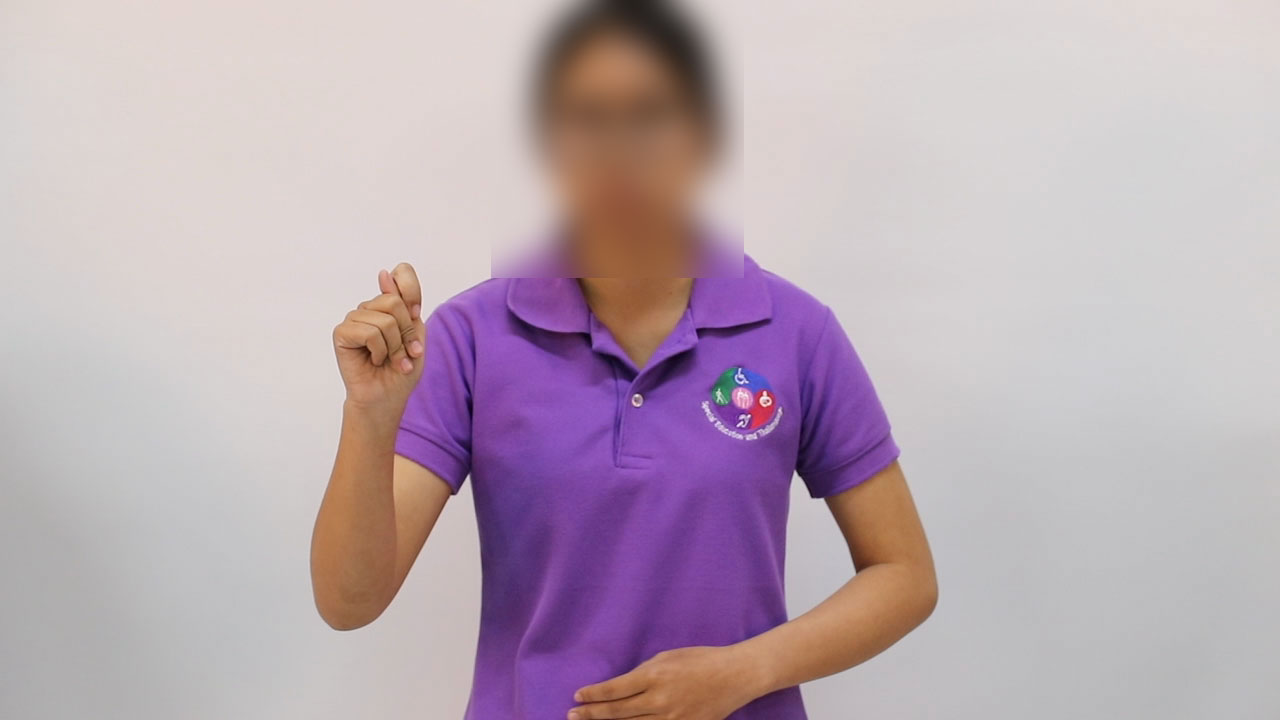tor: (303, 249, 451, 440)
